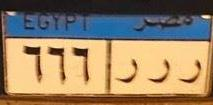6: (22, 44, 44, 86), (70, 45, 91, 86), (48, 45, 67, 88)
raa: (113, 57, 141, 87), (146, 55, 172, 86), (176, 56, 203, 85)
